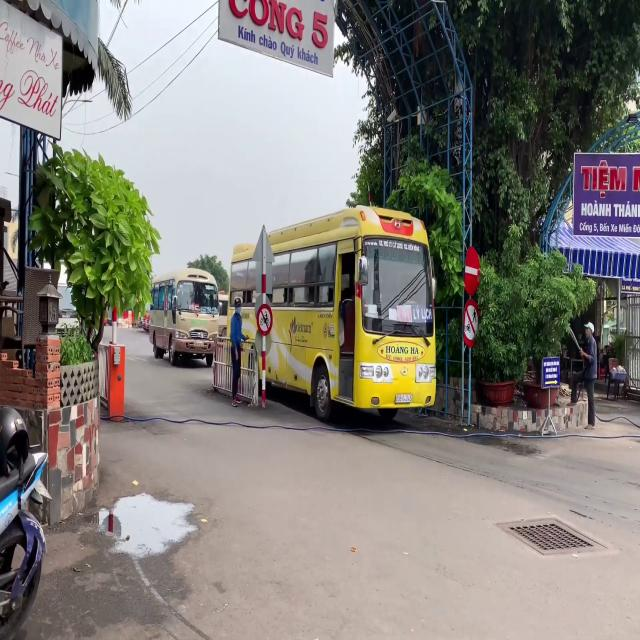bien_trang: (395, 394, 413, 404)
